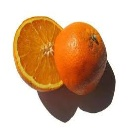orange: (12, 14, 73, 94), (54, 20, 108, 98)
